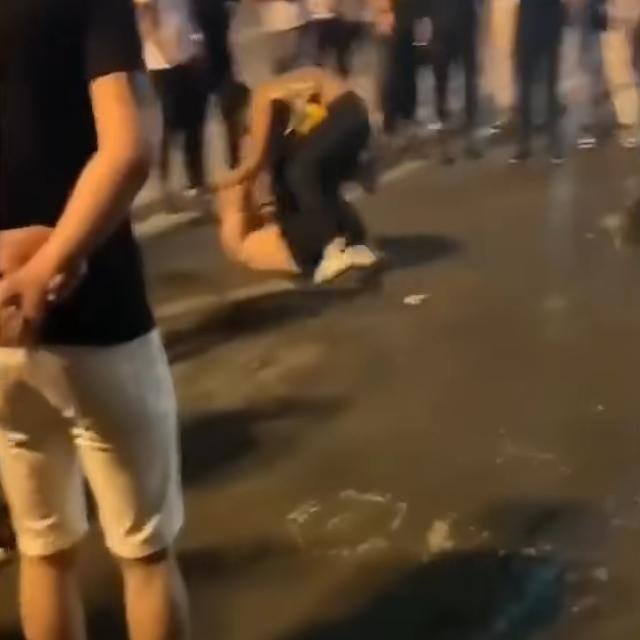fight: (212, 65, 386, 290)
